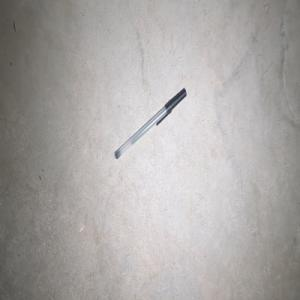Pen: (114, 88, 186, 159)
